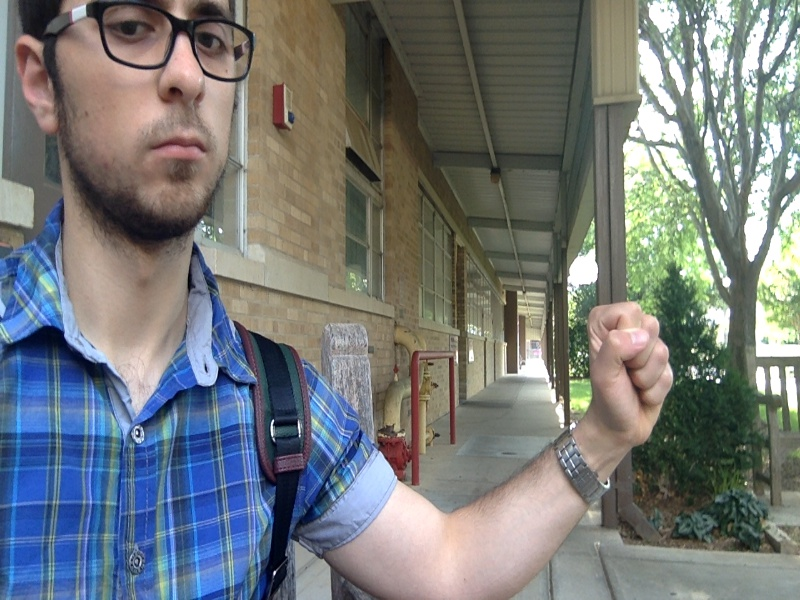0-hand: (586, 302, 671, 444)
